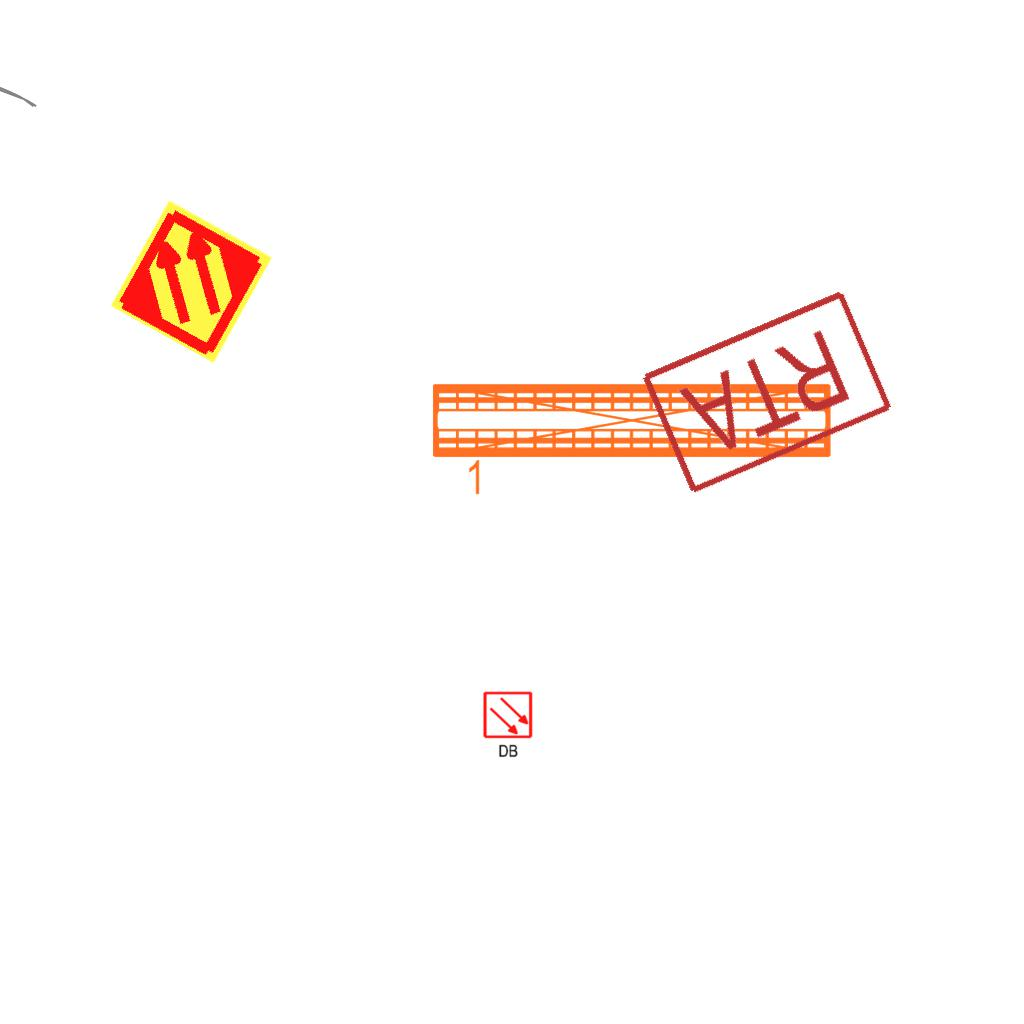ASR_Ansaugrauchmelder: (106, 196, 277, 367)
Buero_Pendelleuchten_LED: (426, 374, 839, 504)
DB_Melder_in_Doppelboden_mit_Revisionsoeffnung_mind_40_x_40_cm: (480, 688, 537, 762)
Ruf-und_Abstelltaster: (637, 282, 901, 500)
